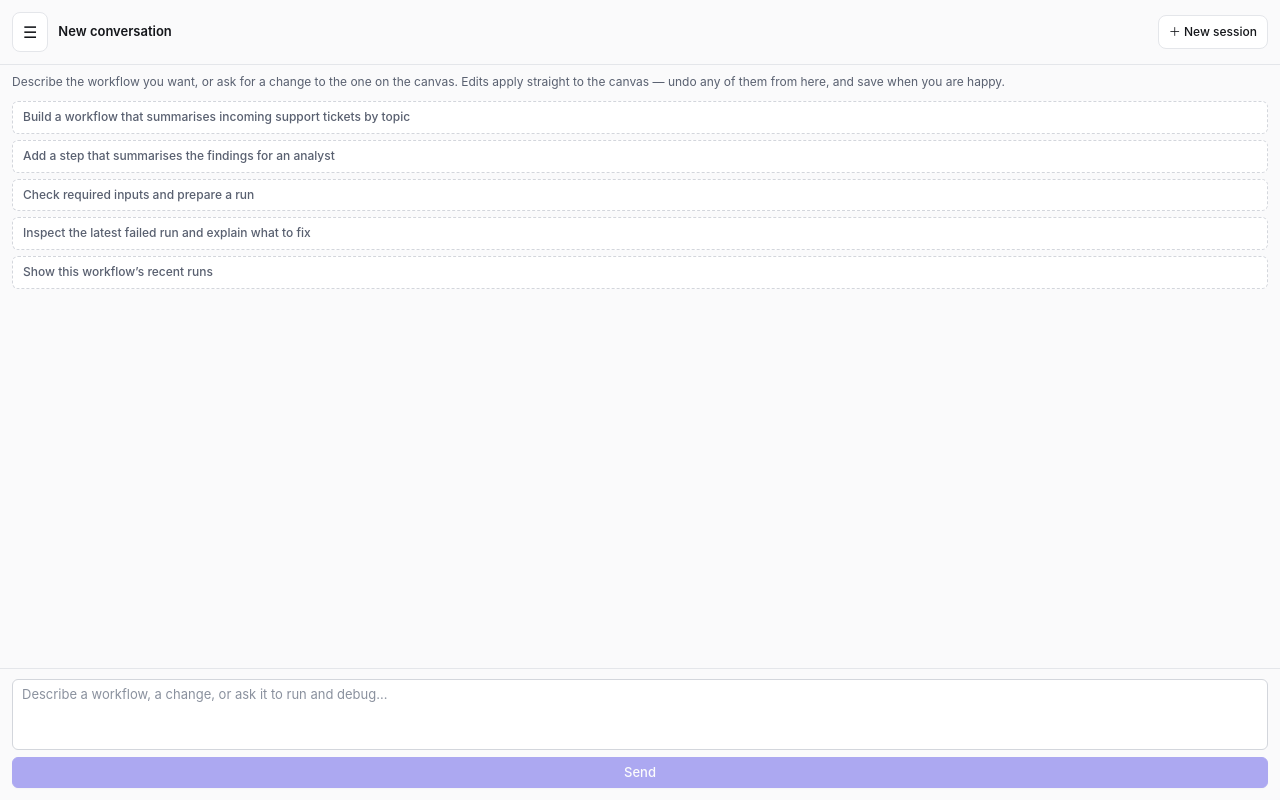
Test: ChatPanel › offers no undo for a turn that only read the workflow
Type "what does the second node do?" into the text box at (640, 714), box [12, 679, 1268, 750]
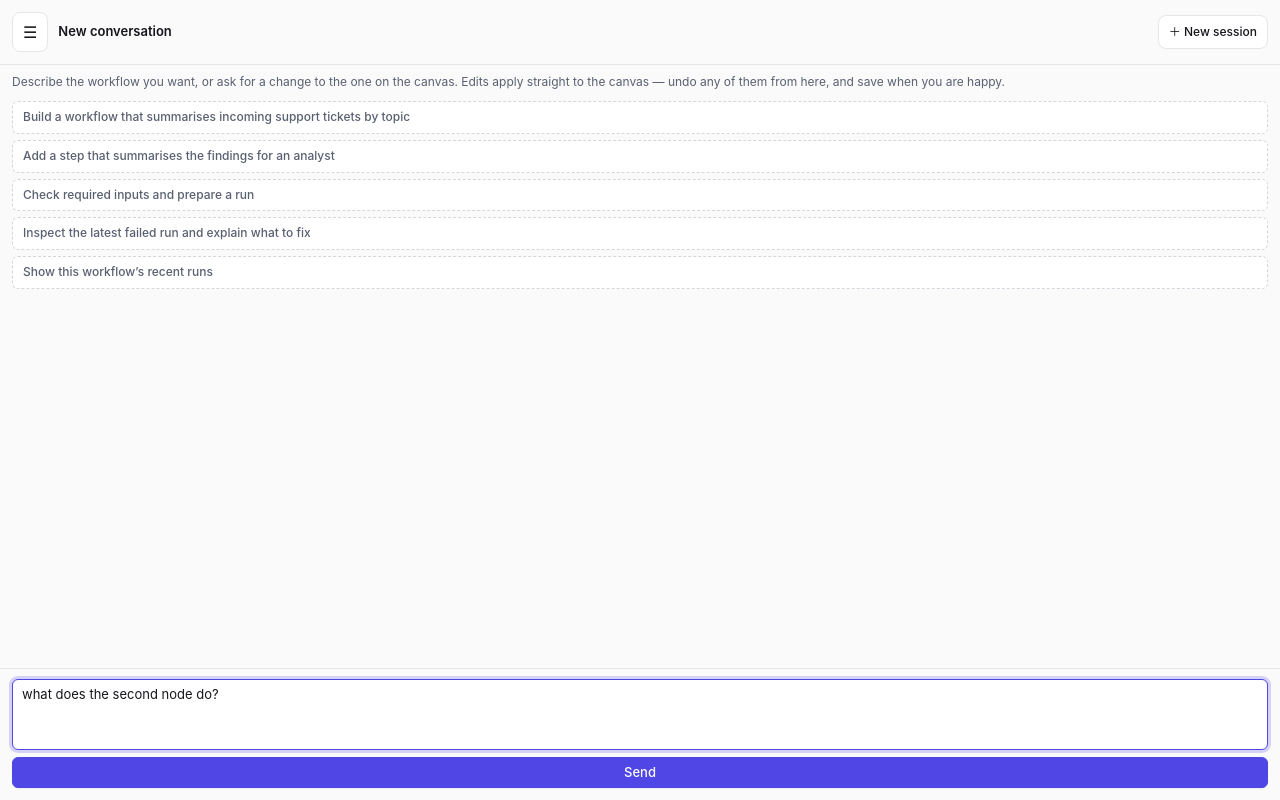
Click the button "Send" at (640, 772), box [12, 756, 1268, 788]
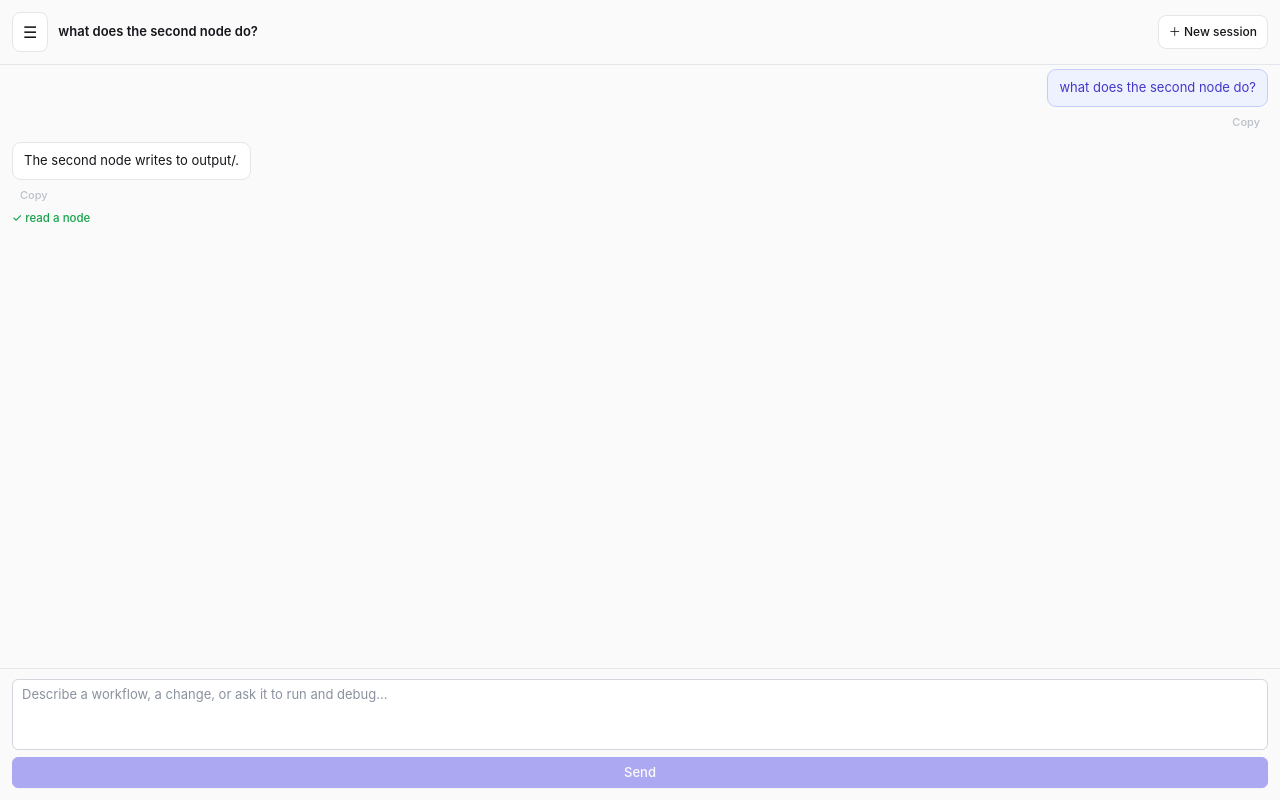
expect the text "✓ read a node" is shown: met, box [12, 210, 90, 227]
